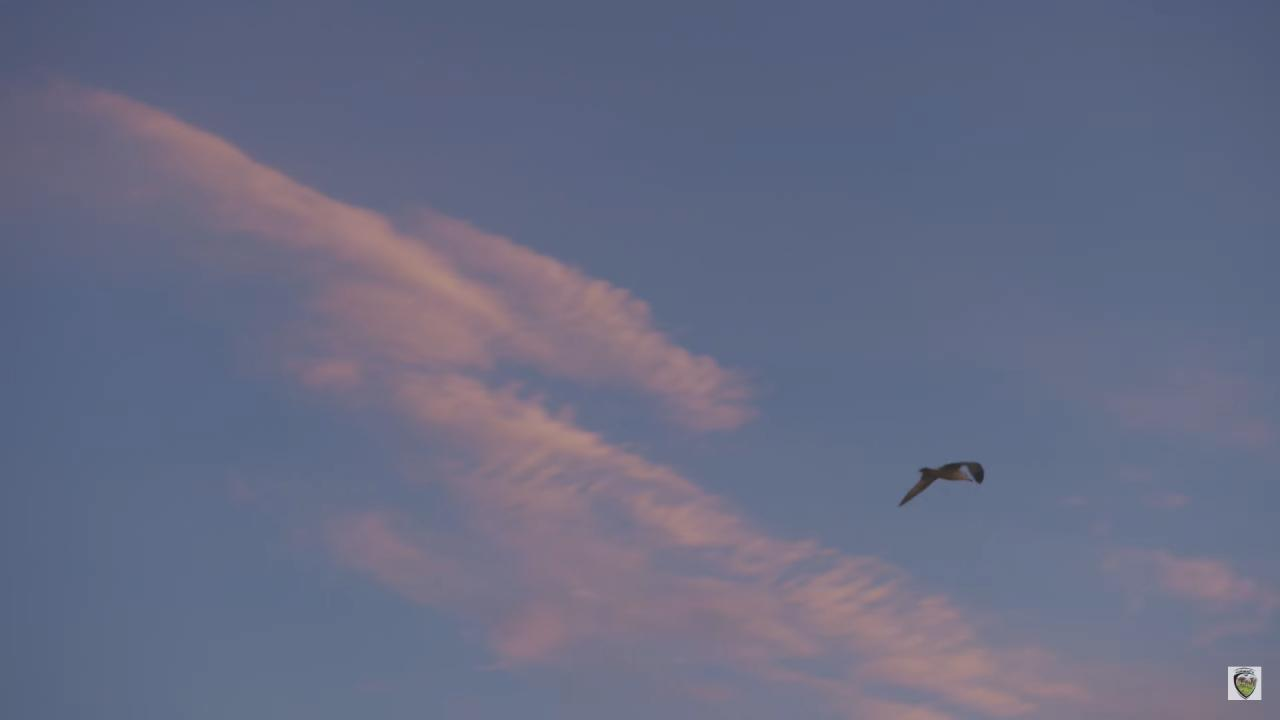Bird: (890, 448, 996, 515)
